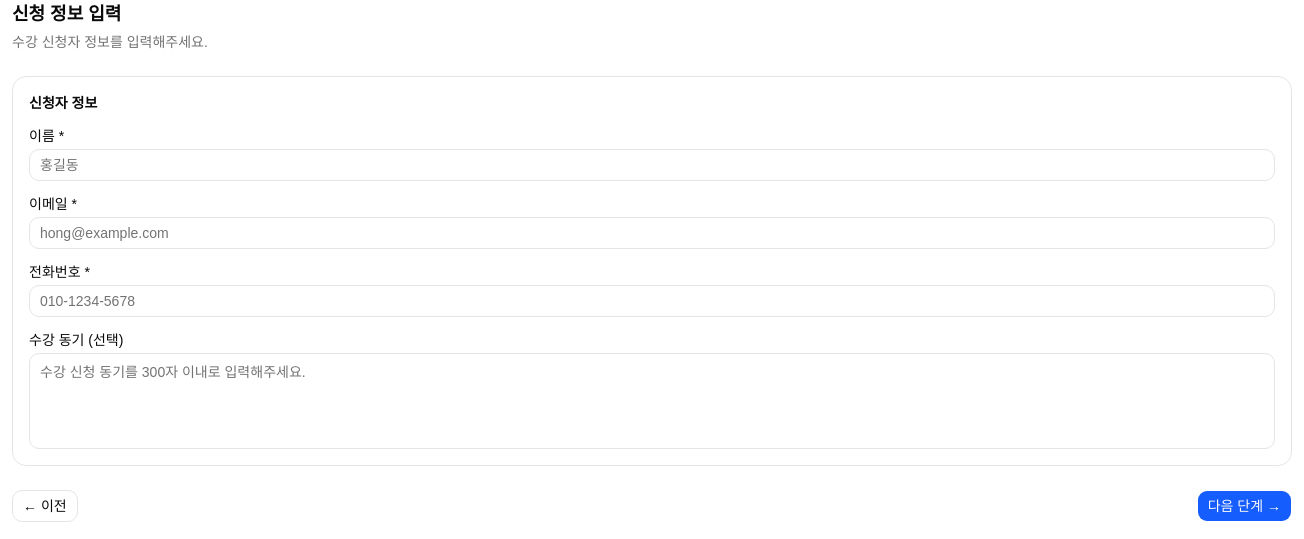
Scenario: Step2PersonalInfo › 전화번호 입력 시 자동으로 하이픈 포맷으로 변환된다
This screenshot has width=1304, height=539.
In the field with placeholder "010-1234-5678": (652, 301) [29, 285, 1275, 317], type "01012345678"
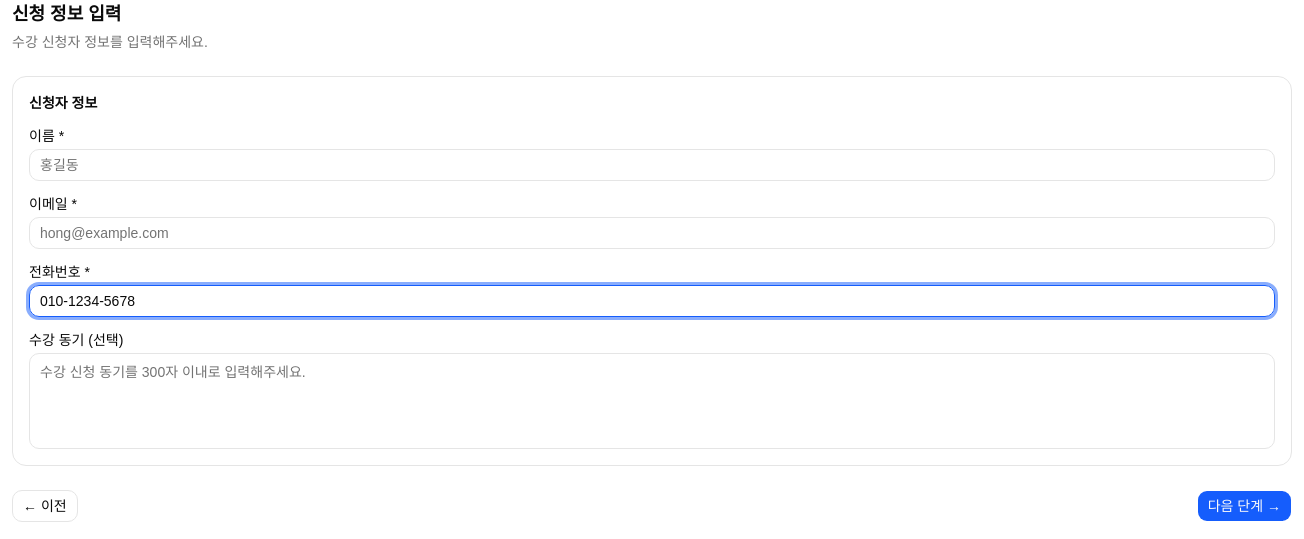
Expected: the field with placeholder "010-1234-5678" holds "010-1234-5678", [29, 285, 1275, 317]
